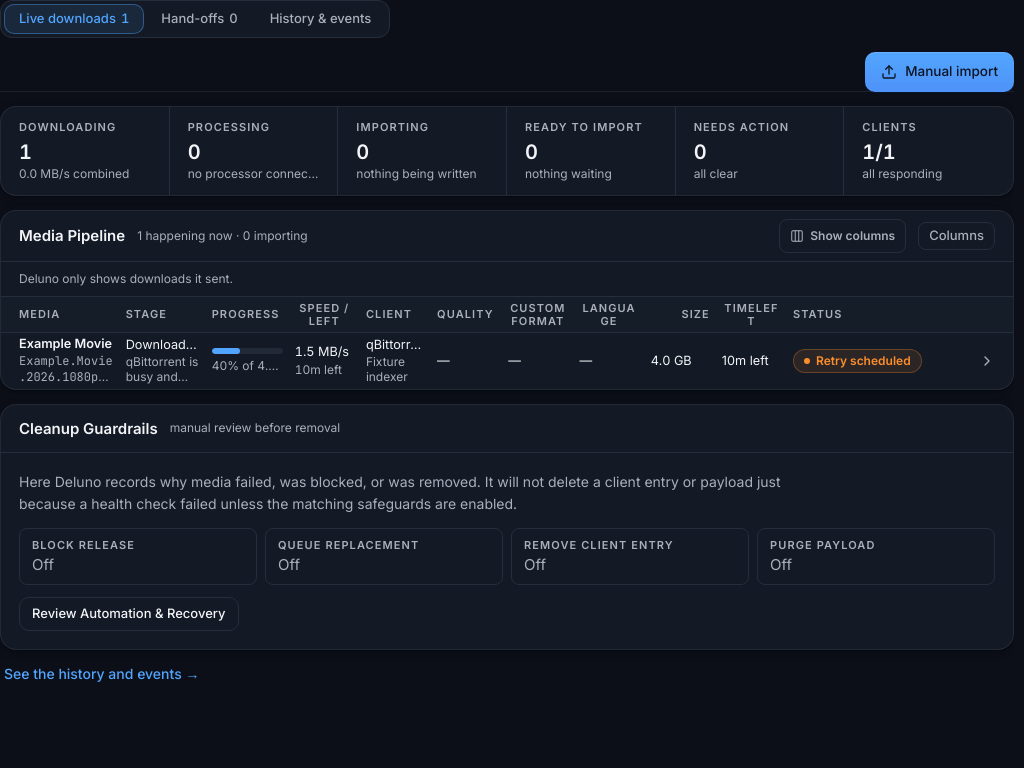
Test case: the integration failure block in a download's drawer › reads RetryScheduled as 'Retry scheduled'
The width and height of the screenshot is (1024, 768).
Click the text "Example.Movie.2026.1080p.WEB-DL-GROUP" at (507, 360), box [1,332,1013,388]
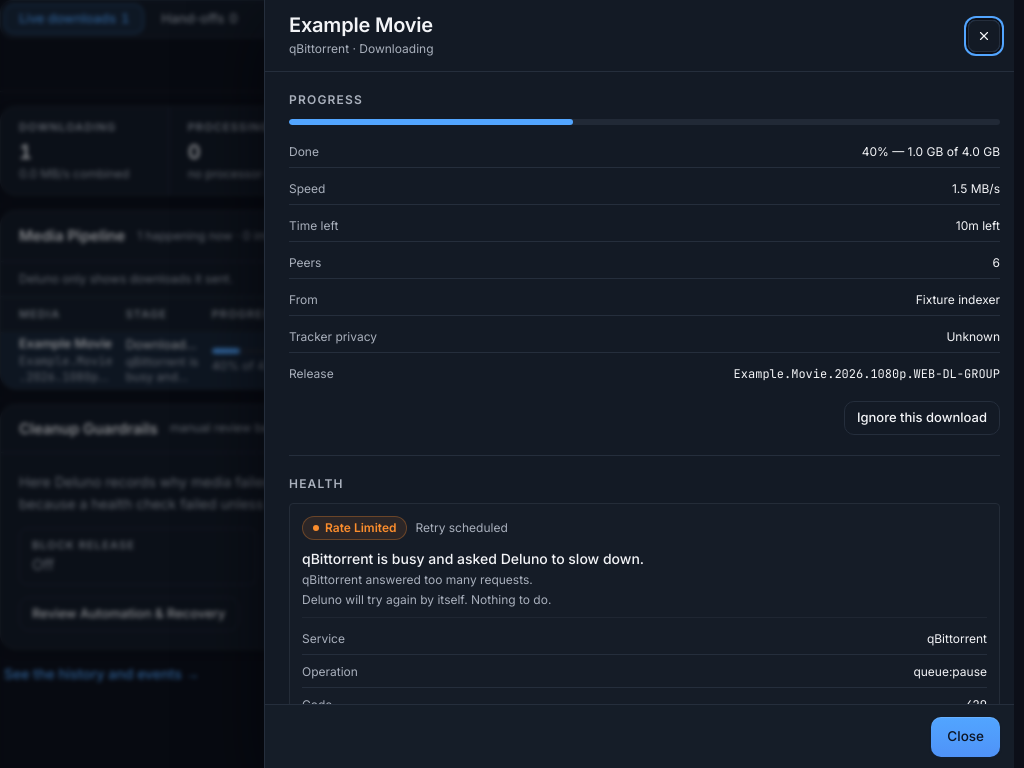
Now the text "Retry scheduled" is shown, box [416,519,508,537]
